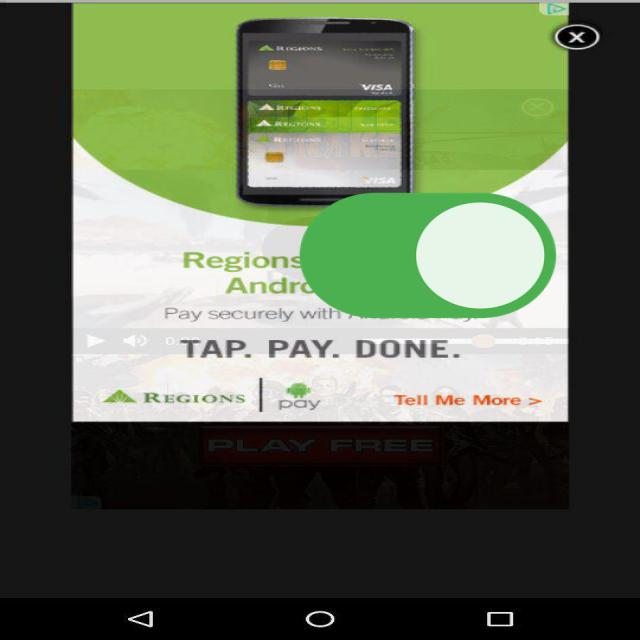social proof: (288, 145, 568, 376)
